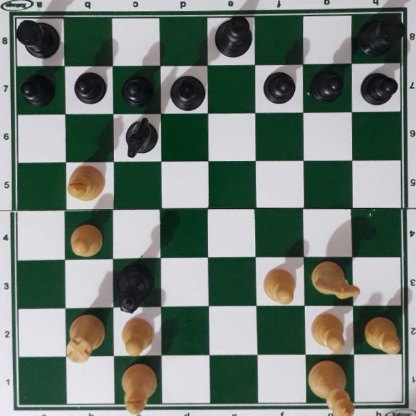black-bishop: (167, 75, 206, 112)
black-king: (212, 15, 253, 58)
black-knight: (122, 115, 158, 158)
black-pawn: (360, 69, 396, 105), (73, 70, 105, 104), (263, 68, 295, 102), (121, 72, 153, 106), (20, 72, 53, 104), (311, 67, 343, 100)
black-queen: (116, 261, 155, 315)
black-rook: (13, 15, 60, 58), (357, 13, 405, 55)
white-bishop: (121, 363, 159, 414), (66, 164, 105, 201)
white-king: (306, 358, 356, 416)
white-knight: (308, 259, 360, 299)
white-pawn: (309, 310, 347, 351), (119, 316, 154, 356), (363, 315, 400, 352), (262, 266, 298, 304), (69, 223, 104, 257)
white-rook: (66, 313, 103, 361)
